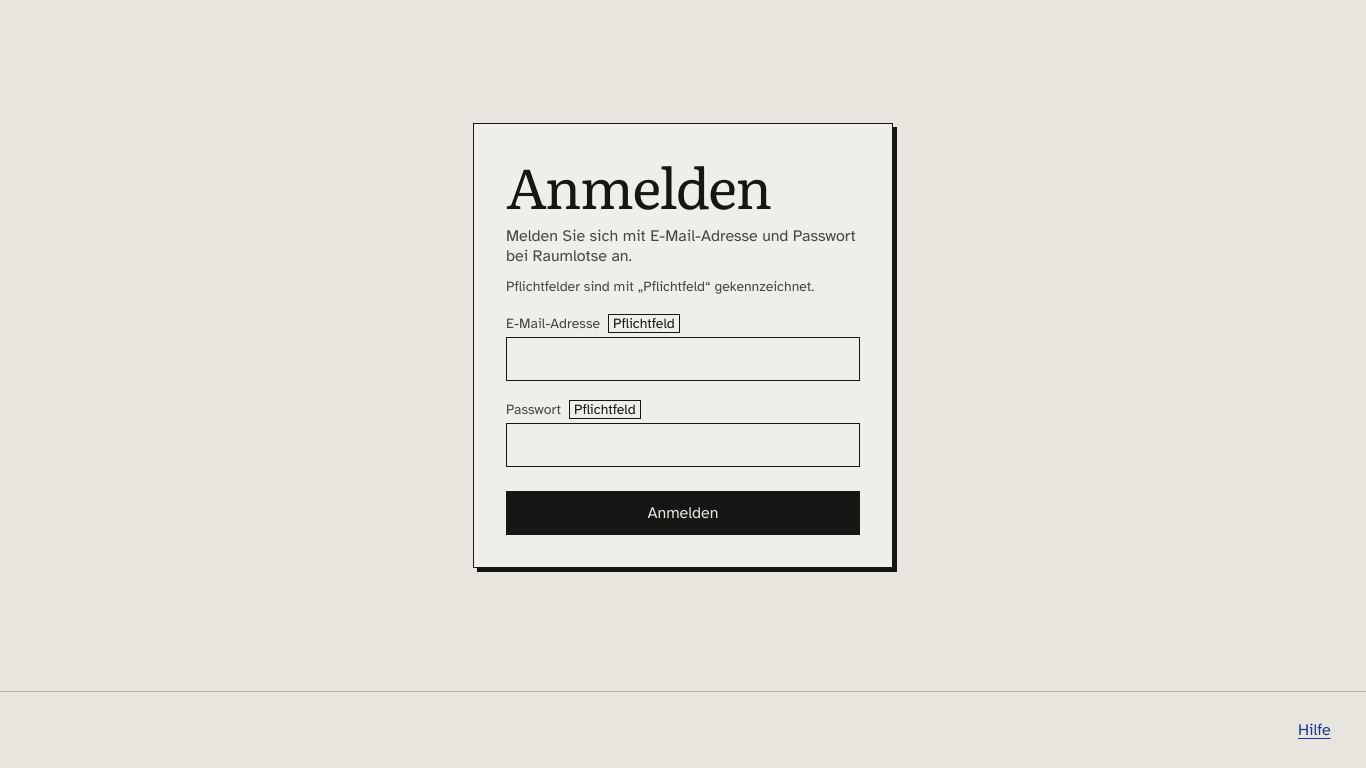
Scenario: LoginPage › preserves the exact password and announces generic credential errors
This screenshot has width=1366, height=768.
Type "user@example.test" into the field labelled "E-Mail-Adresse".
click(683, 359); type("user@example.test")  # box x1=506 y1=337 x2=860 y2=381
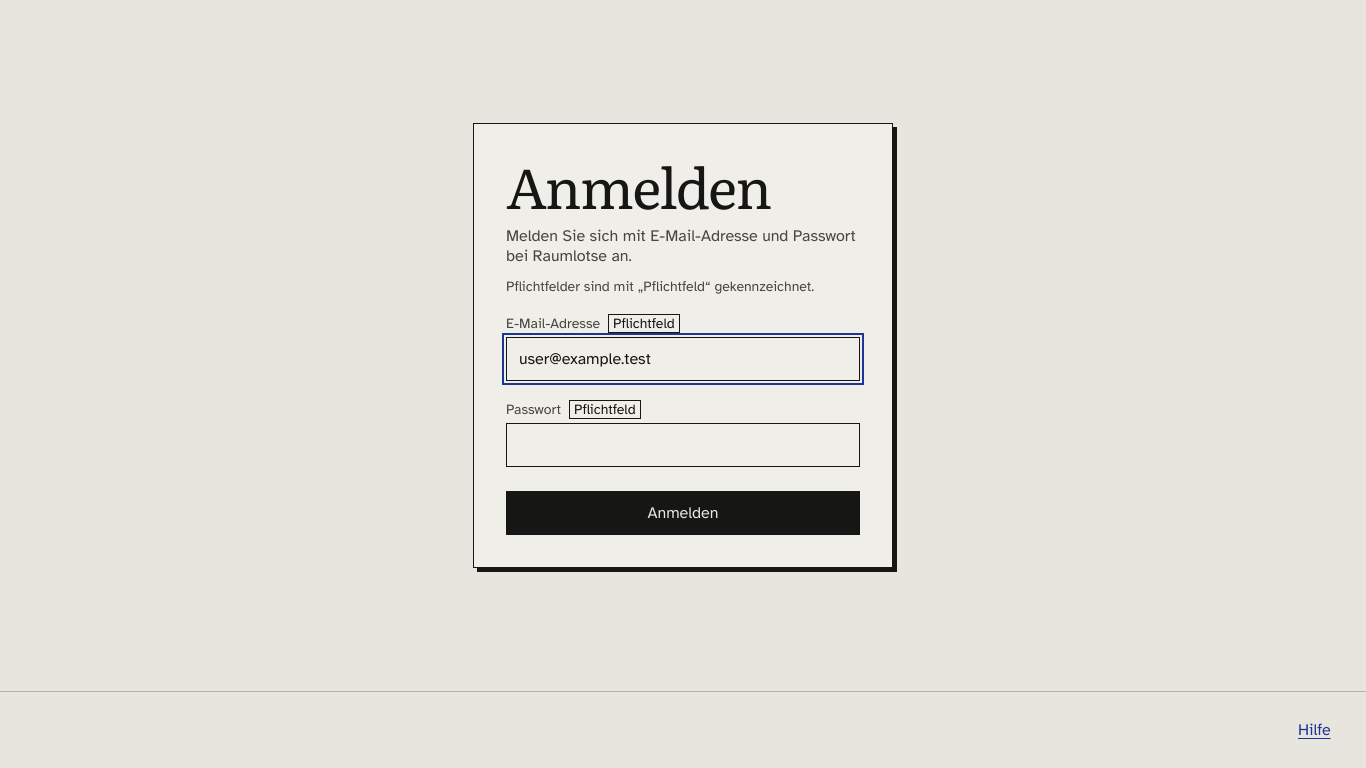
Type "  Exact Case  " into the password field labelled "Passwort".
click(683, 445); type("  Exact Case  ")  # box x1=506 y1=423 x2=860 y2=467
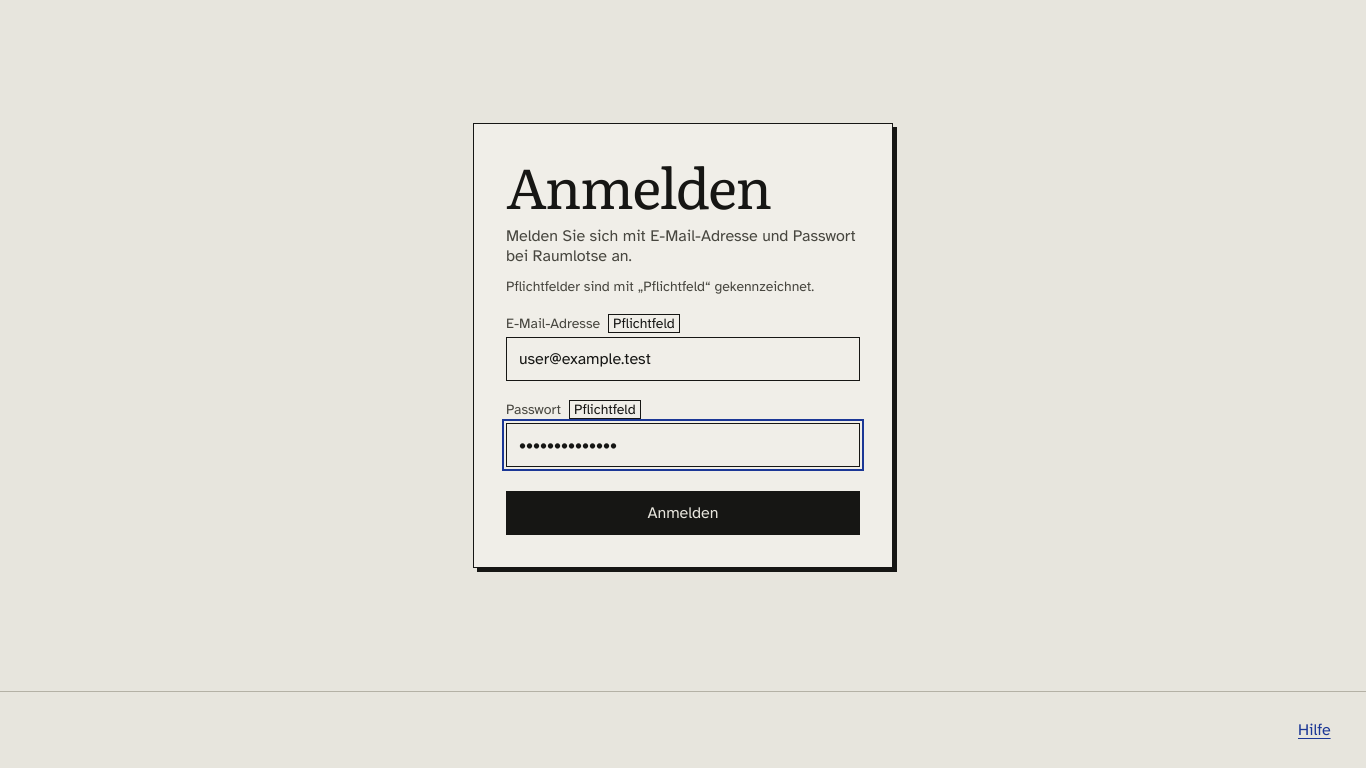
Click the button "Anmelden".
click(683, 513)  # box x1=506 y1=491 x2=860 y2=535
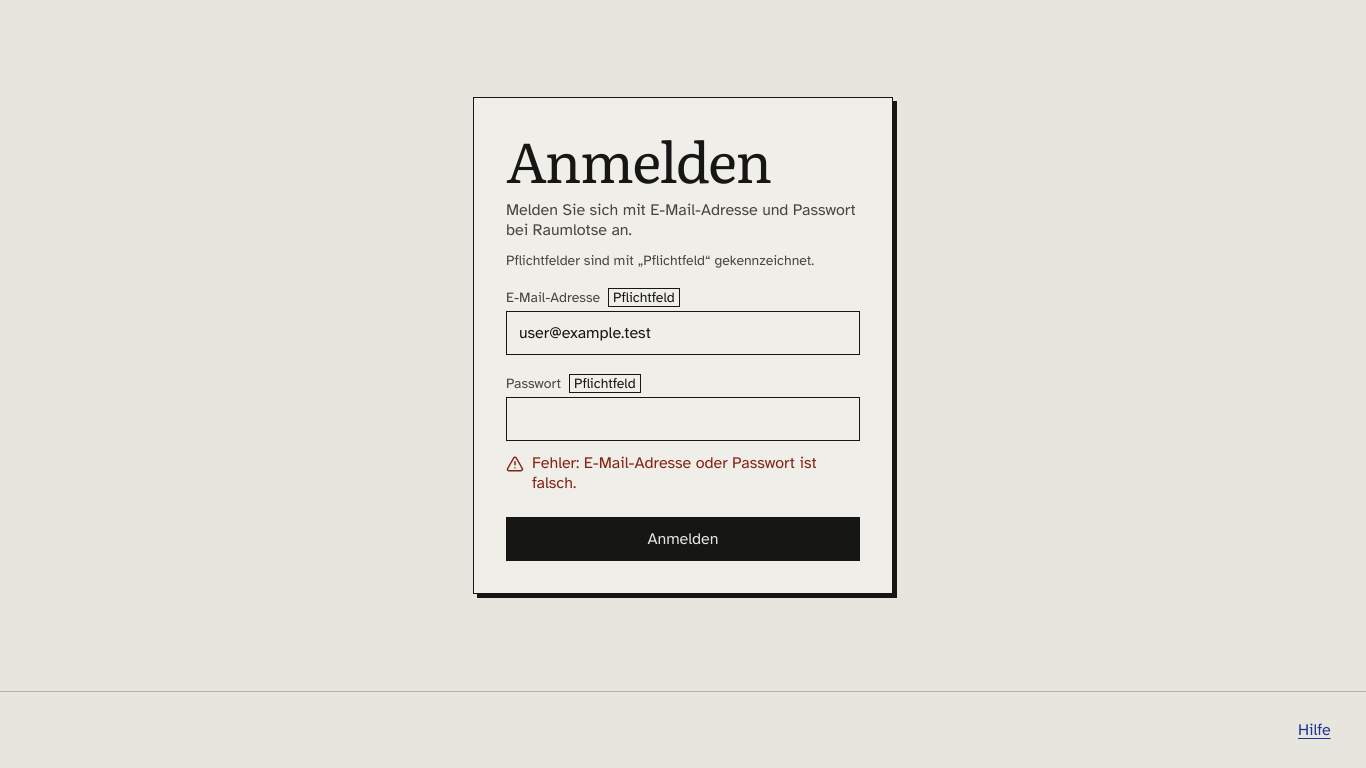
Check: the message shows "E-Mail-Adresse oder Passwort ist falsch.", box x1=532 y1=453 x2=817 y2=493
